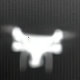plane: (2, 23, 78, 72)
